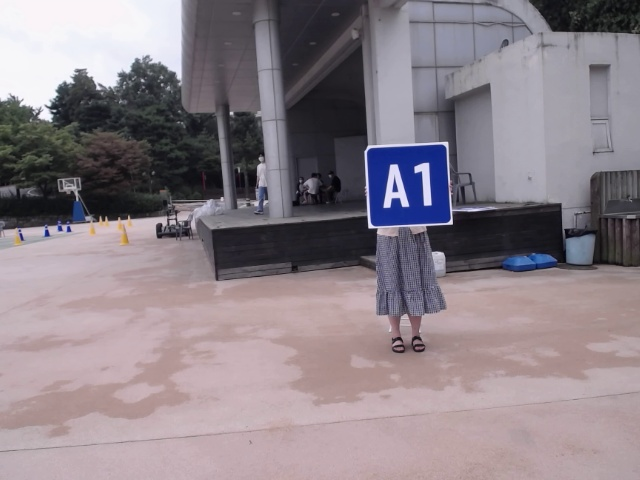delivery_a1: (366, 143, 452, 226)
